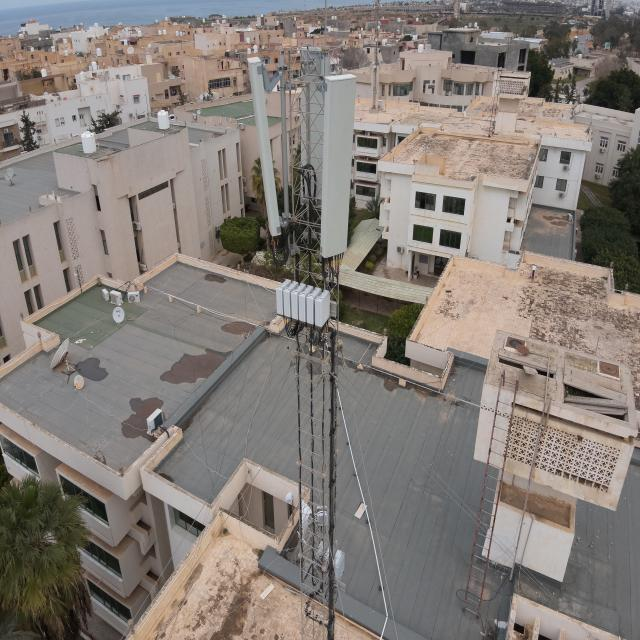antenna: (316, 69, 358, 255), (247, 57, 281, 239), (301, 39, 331, 210)
lighnig-rad: (321, 0, 329, 48)
microware-dish: (298, 493, 329, 540)
power-box: (316, 540, 347, 582)
radio-unit: (276, 276, 331, 331)
